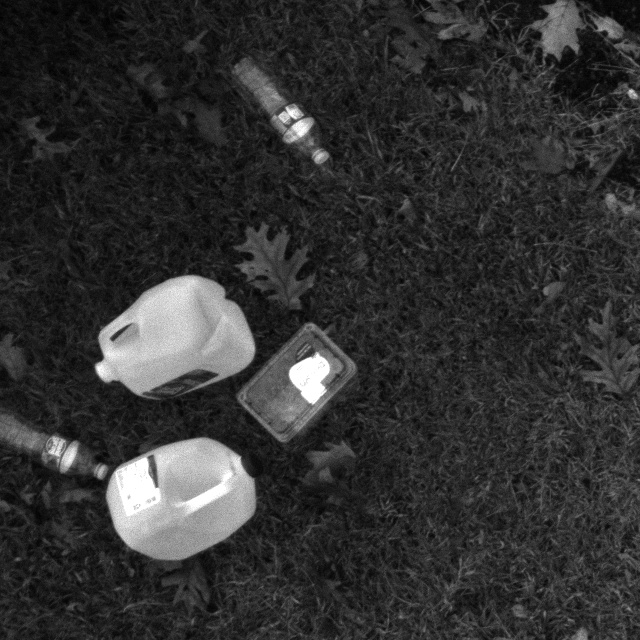bottle: (235, 49, 341, 176), (0, 399, 117, 492)
can: (79, 272, 272, 423), (99, 429, 262, 580)
container: (236, 307, 372, 452)
